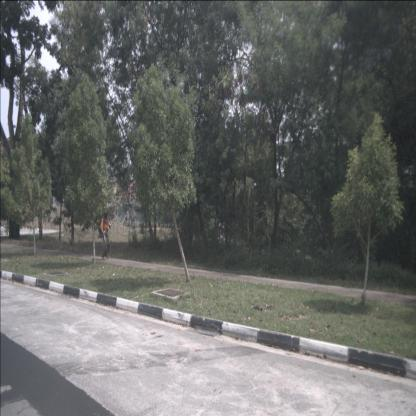human-pedestrian-adult: (98, 208, 117, 260)
